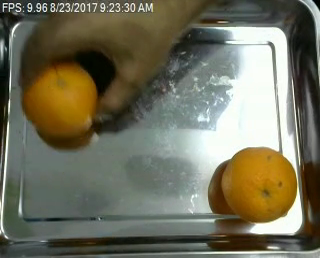Orange: (220, 145, 297, 222)
